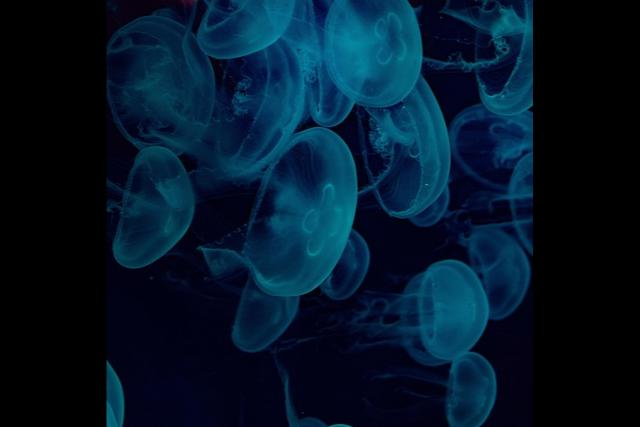Non_Gorille: (143, 0, 520, 427)
